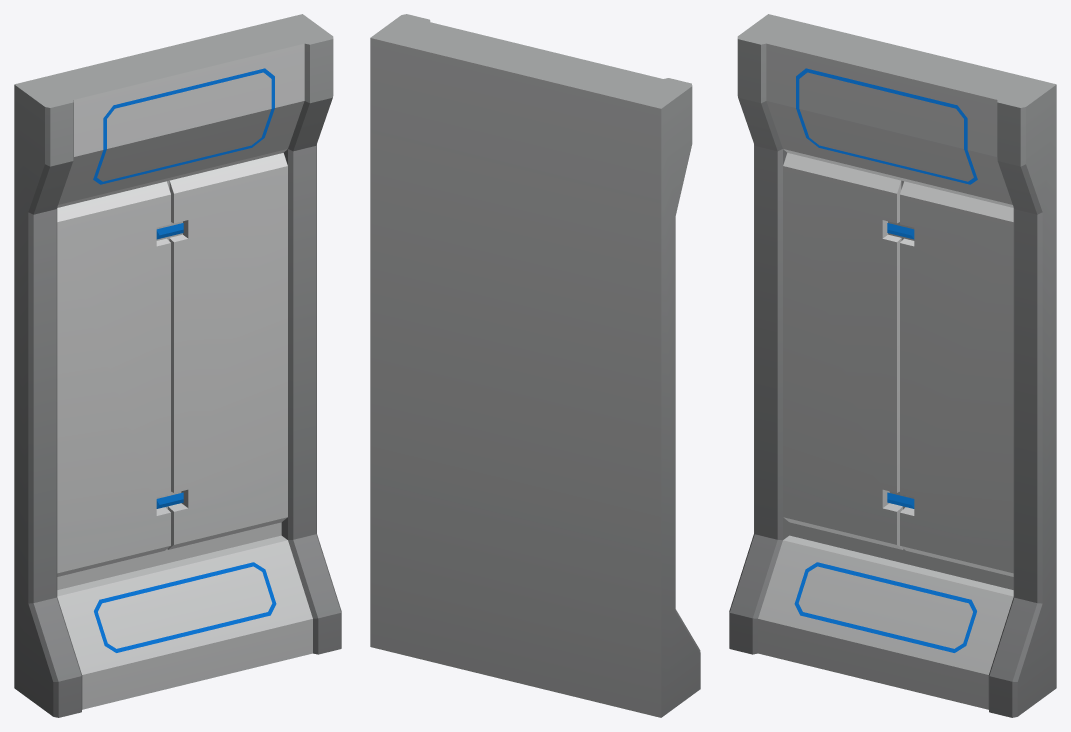
File: Wall_type_A_007.glb
3 views of the same model, side by side, from view 1: azimuth 30°, elevation 25°; view 2: azimuth 150°, elevation 25°; view 3: azimuth 330°, elevation 25° (orthographic).
Visible parts, largest first — view 1: Wall_type_A_007; view 2: Wall_type_A_007; view 3: Wall_type_A_007.
Boxes of the visible parts, x1,y1,x2,y2 form: Wall_type_A_007: (14,14,341,717); Wall_type_A_007: (370,14,700,717); Wall_type_A_007: (729,14,1056,717).
Bounding box in the file's own units: 2 × 4 × 0.5.
Materials: 2 (2 with a texture image).
